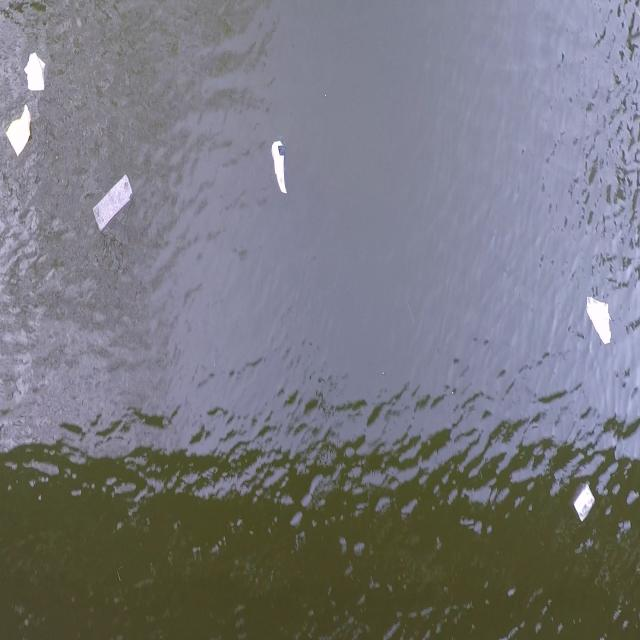Autre plastique: (91, 169, 136, 239)
